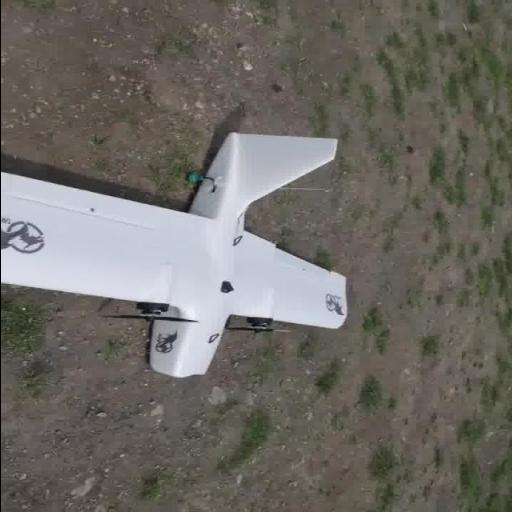uav: (0, 130, 355, 386)
